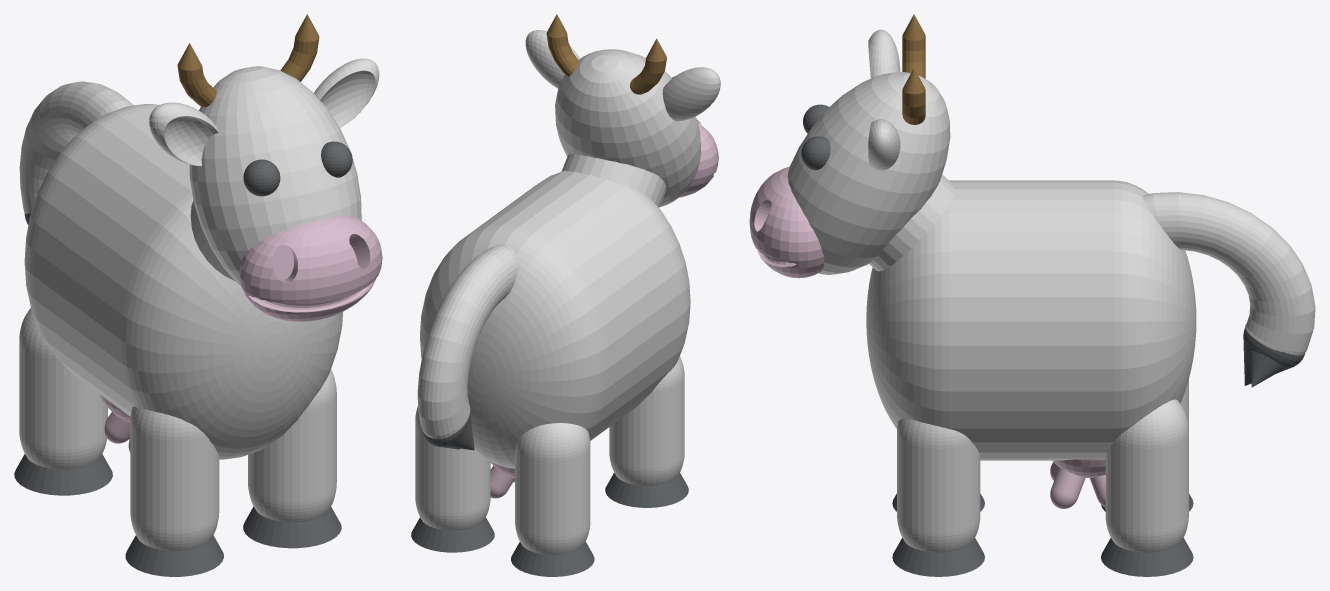
The model's file is shape.glb.glb.
3 renders of one model, left to right at view 1: azimuth 30°, elevation 25°; view 2: azimuth 150°, elevation 25°; view 3: azimuth 270°, elevation 25°, orthographic. The views are drawn at different scales.
Visible parts, largest first — view 1: Mesh_Mesh_head_geo.001_lambert2SG.001; view 2: Mesh_Mesh_head_geo.001_lambert2SG.001; view 3: Mesh_Mesh_head_geo.001_lambert2SG.001.
Part boxes in pixels (x1,y1,x2,y2): Mesh_Mesh_head_geo.001_lambert2SG.001: (14,14,382,576); Mesh_Mesh_head_geo.001_lambert2SG.001: (411,14,720,576); Mesh_Mesh_head_geo.001_lambert2SG.001: (749,14,1315,576).
Size of the model in its own units: 0.0213 by 0.0467 by 0.0489.
